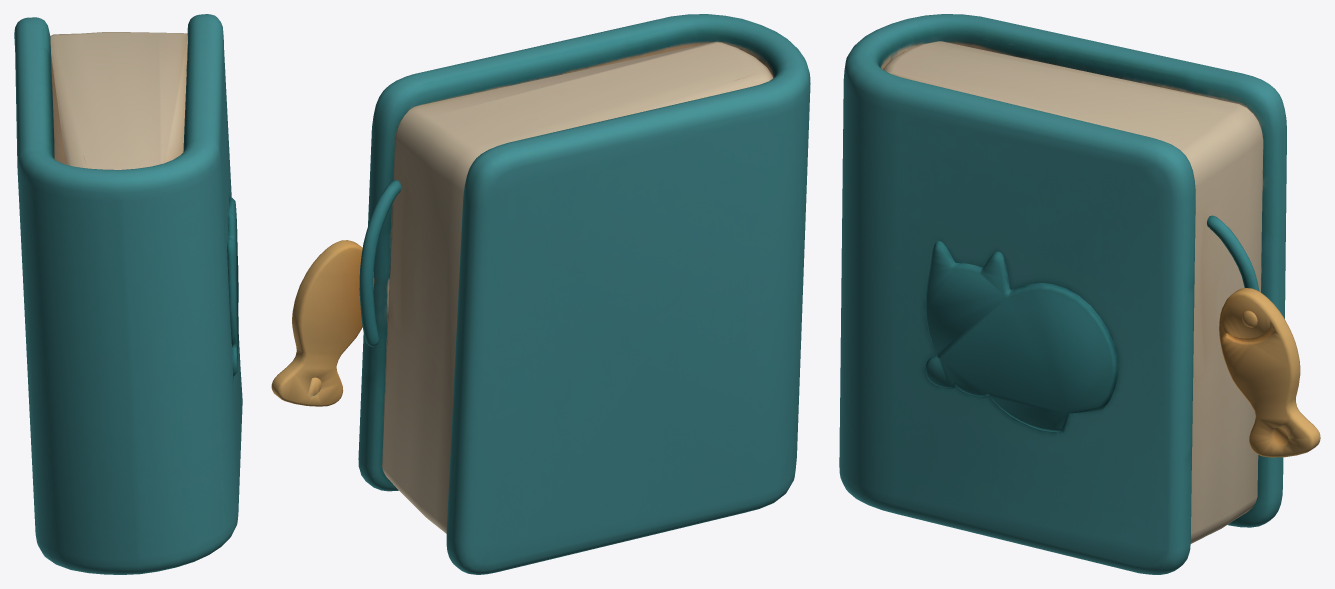
File: librarian-book.glb
3 renders of one model, left to right at view 1: azimuth 30°, elevation 25°; view 2: azimuth 150°, elevation 25°; view 3: azimuth 270°, elevation 25°, orthographic. The views are drawn at different scales.
Parts seen in each view (by area): view 1: tripo_node_38e88747-2f75-413f-bf63-f3ffe8afe088; view 2: tripo_node_38e88747-2f75-413f-bf63-f3ffe8afe088; view 3: tripo_node_38e88747-2f75-413f-bf63-f3ffe8afe088.
Boxes of the visible parts, <box> form: tripo_node_38e88747-2f75-413f-bf63-f3ffe8afe088: <box>14,14,242,574</box>; tripo_node_38e88747-2f75-413f-bf63-f3ffe8afe088: <box>271,14,810,574</box>; tripo_node_38e88747-2f75-413f-bf63-f3ffe8afe088: <box>839,14,1320,574</box>.
Size of the model in its own units: 0.8394 by 0.9995 by 0.9881.
1 material, 1 textured.
